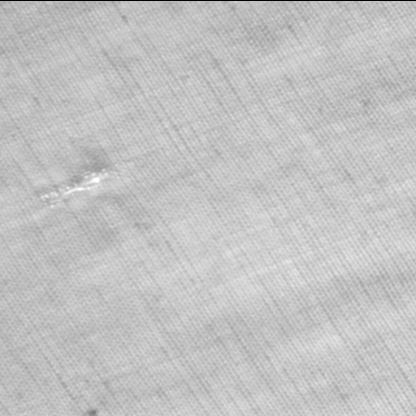hole: (36, 164, 124, 210)
